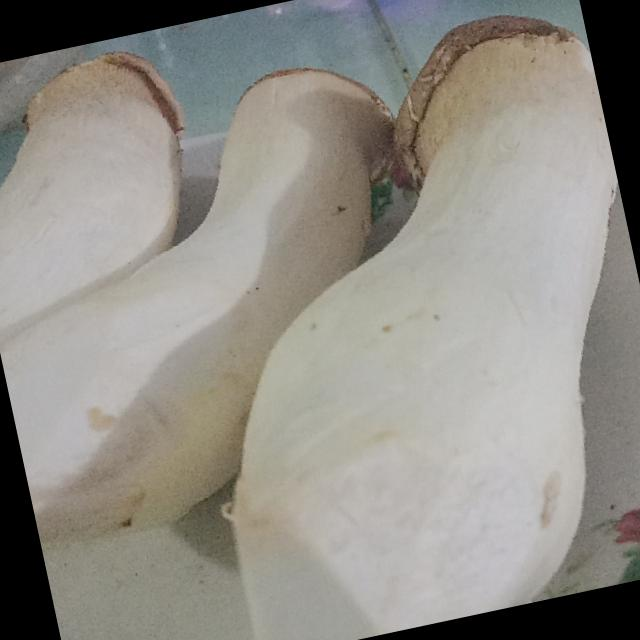Pleurotus eryngii: (133, 0, 640, 640), (0, 0, 468, 555)
